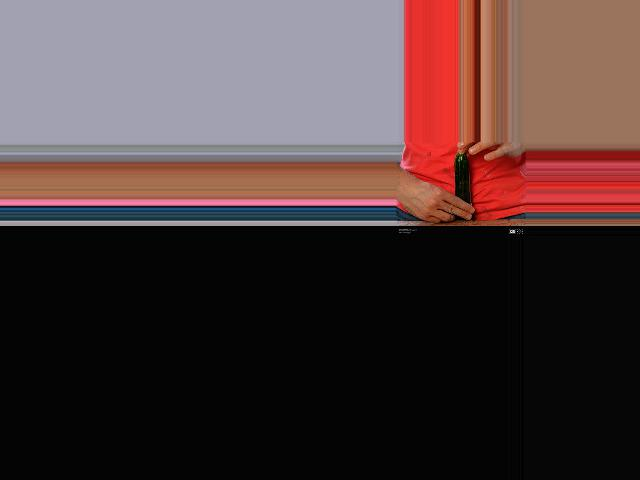cucumber: (453, 153, 470, 204)
